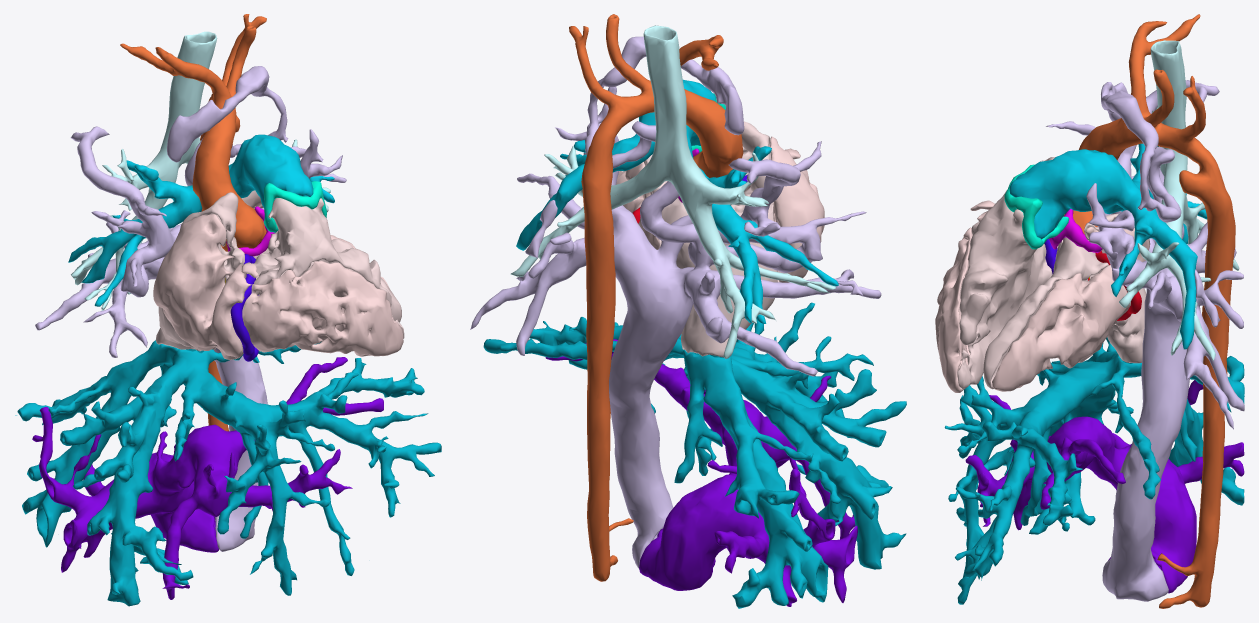
The model's file is {S,D,S} Mixed TAPVC.gltf.
The picture shows the model from 3 angles, left to right: view 1: azimuth 30°, elevation 25°; view 2: azimuth 150°, elevation 25°; view 3: azimuth 270°, elevation 25°; orthographic projection. The views are drawn at different scales.
Parts seen in each view (by area): view 1: hepatic veins, resected, portal vein, pulmonary venous pathway, heart, pulmonary artery, aorta, trachea, pulmonary valve, tricuspid valve; view 2: pulmonary venous pathway, hepatic veins, aorta, portal vein, trachea, pulmonary artery, heart, resected; view 3: pulmonary venous pathway, hepatic veins, aorta, heart, resected, portal vein, pulmonary artery, trachea, pulmonary valve, aortic valve, mitral valve.
Part boxes in pixels (<box>): hepatic veins: <box>15,340,441,606</box>; resected: <box>153,205,403,359</box>; portal vein: <box>32,357,383,599</box>; pulmonary venous pathway: <box>35,66,346,551</box>; heart: <box>155,190,404,358</box>; pulmonary artery: <box>68,134,334,306</box>; aorta: <box>120,14,266,431</box>; trachea: <box>71,31,330,310</box>; pulmonary valve: <box>263,181,326,232</box>; tricuspid valve: <box>230,254,258,361</box>; pulmonary venous pathway: <box>470,36,881,568</box>; hepatic veins: <box>483,302,906,608</box>; aorta: <box>569,14,743,581</box>; portal vein: <box>545,339,857,606</box>; trachea: <box>510,25,835,358</box>; pulmonary artery: <box>516,79,838,323</box>; heart: <box>625,121,779,357</box>; resected: <box>616,136,824,282</box>; pulmonary venous pathway: <box>1046,80,1244,601</box>; hepatic veins: <box>944,337,1244,604</box>; aorta: <box>1064,14,1235,608</box>; heart: <box>957,157,1150,389</box>; resected: <box>935,160,1149,392</box>; portal vein: <box>965,380,1244,593</box>; pulmonary artery: <box>1009,143,1207,349</box>; trachea: <box>1119,40,1239,360</box>; pulmonary valve: <box>1004,164,1069,249</box>; aortic valve: <box>1049,209,1102,253</box>; mitral valve: <box>1088,250,1141,320</box>.
Size of the model in its own units: 57.33 by 84.8 by 43.96.
